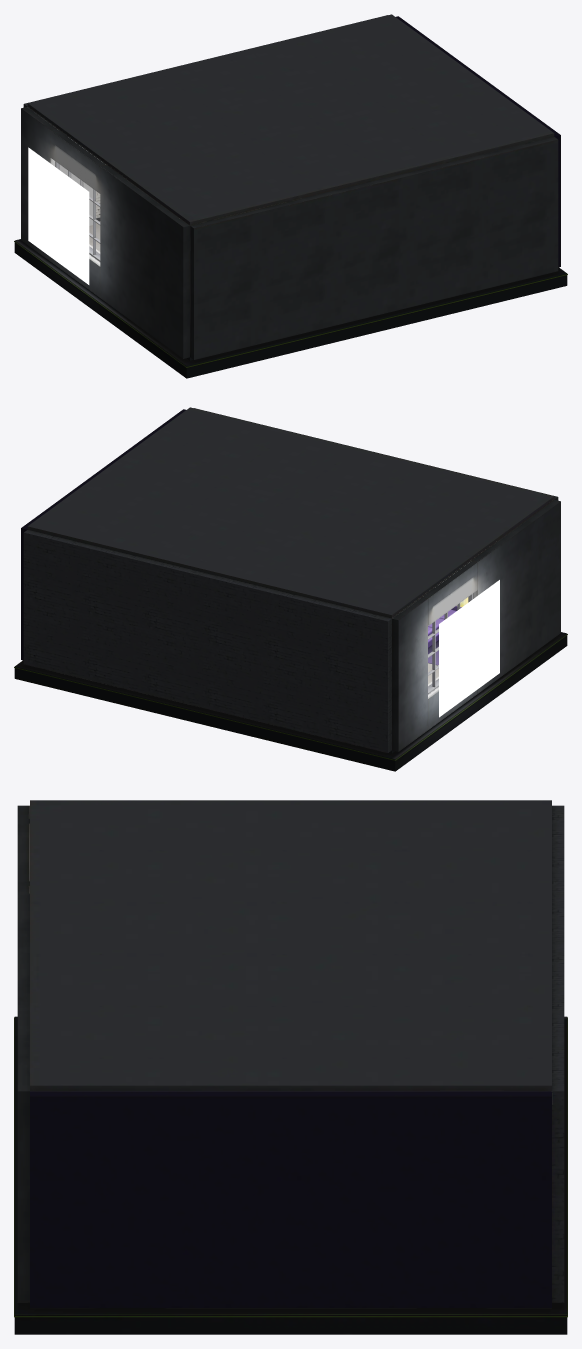
File: hall.glb
3 renders of one model, top to bottom at view 1: azimuth 30°, elevation 25°; view 2: azimuth 150°, elevation 25°; view 3: azimuth 270°, elevation 25°, orthographic. The views are drawn at different scales.
Visible parts, largest first — view 1: bake_ceiling, bake_wall_front, bake_wall_left, bake_floor, win_left0_sky, bake_wall_right, bake_wall_back; view 2: bake_ceiling, bake_wall_back, bake_wall_left, bake_floor, win_left0_sky, bake_wall_right, bake_props0; view 3: bake_ceiling, bake_wall_right, bake_floor, bake_wall_back, bake_wall_front.
Part boxes in pixels (x1,y1,x2,y2): bake_ceiling: (27, 14, 554, 225); bake_wall_front: (190, 137, 558, 359); bake_wall_left: (21, 106, 189, 358); bake_floor: (14, 217, 567, 378); win_left0_sky: (28, 147, 89, 284); bake_wall_right: (396, 16, 560, 267); bake_wall_back: (23, 15, 387, 218); bake_ceiling: (27, 407, 554, 618); bake_wall_back: (23, 530, 391, 752); bake_wall_left: (392, 499, 560, 751); bake_floor: (14, 632, 567, 771); win_left0_sky: (439, 580, 499, 717); bake_wall_right: (21, 409, 185, 660); bake_props0: (428, 597, 468, 665); bake_ceiling: (30, 800, 551, 1091); bake_wall_right: (30, 1091, 551, 1307); bake_floor: (14, 1016, 567, 1334); bake_wall_back: (552, 805, 564, 1302); bake_wall_front: (17, 805, 29, 1302).
Size of the model in its own units: 11.96 by 4.36 by 9.02.
33 materials, 23 textured.
